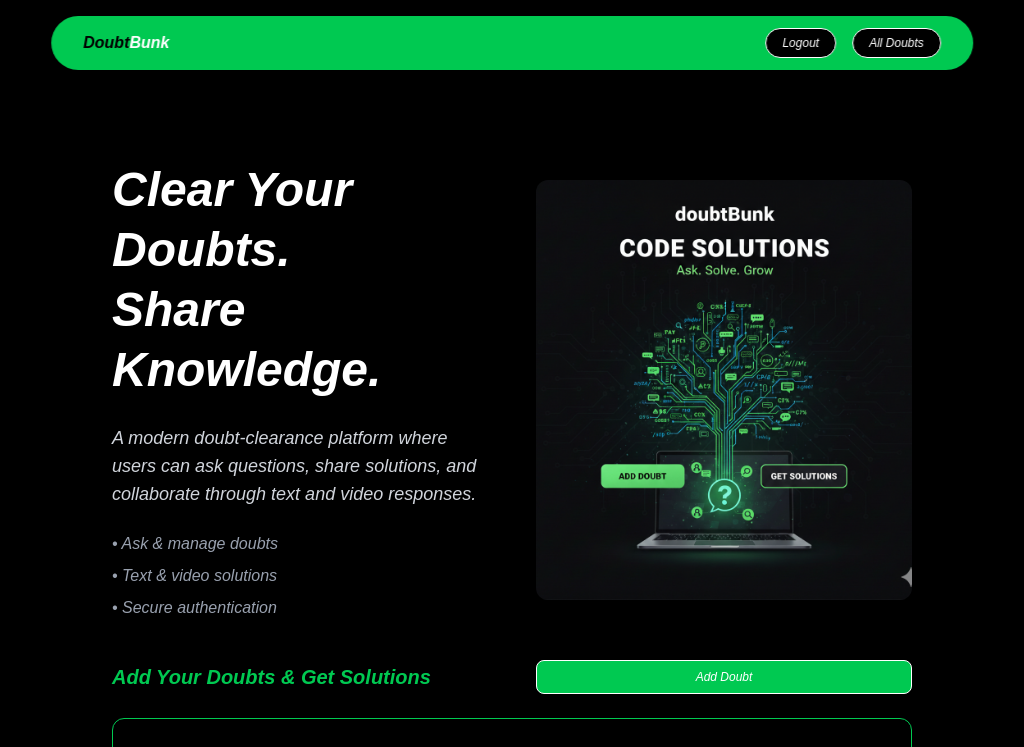
Test case: DoubtBunk - Home Page E2E › Open Add Doubt Modal
Click the button "Add Doubt" at (724, 677), box [536, 660, 912, 694]
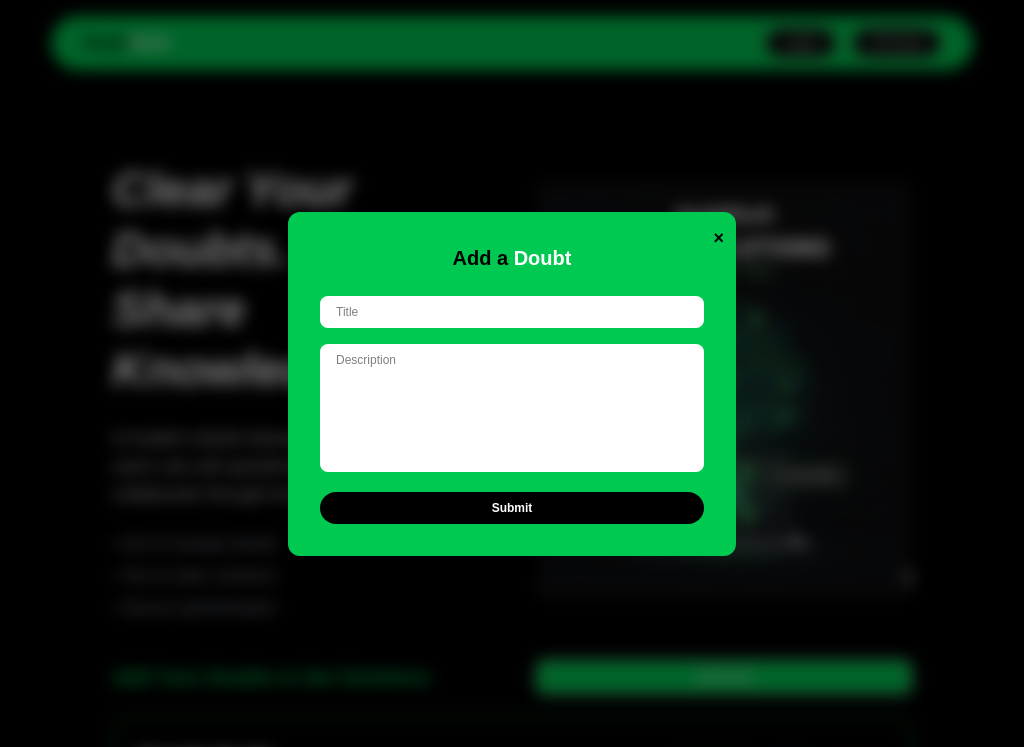
Expected: the field named "title" is shown, [320, 296, 704, 328]
Expected: the text box named "description" is shown, [320, 344, 704, 472]
